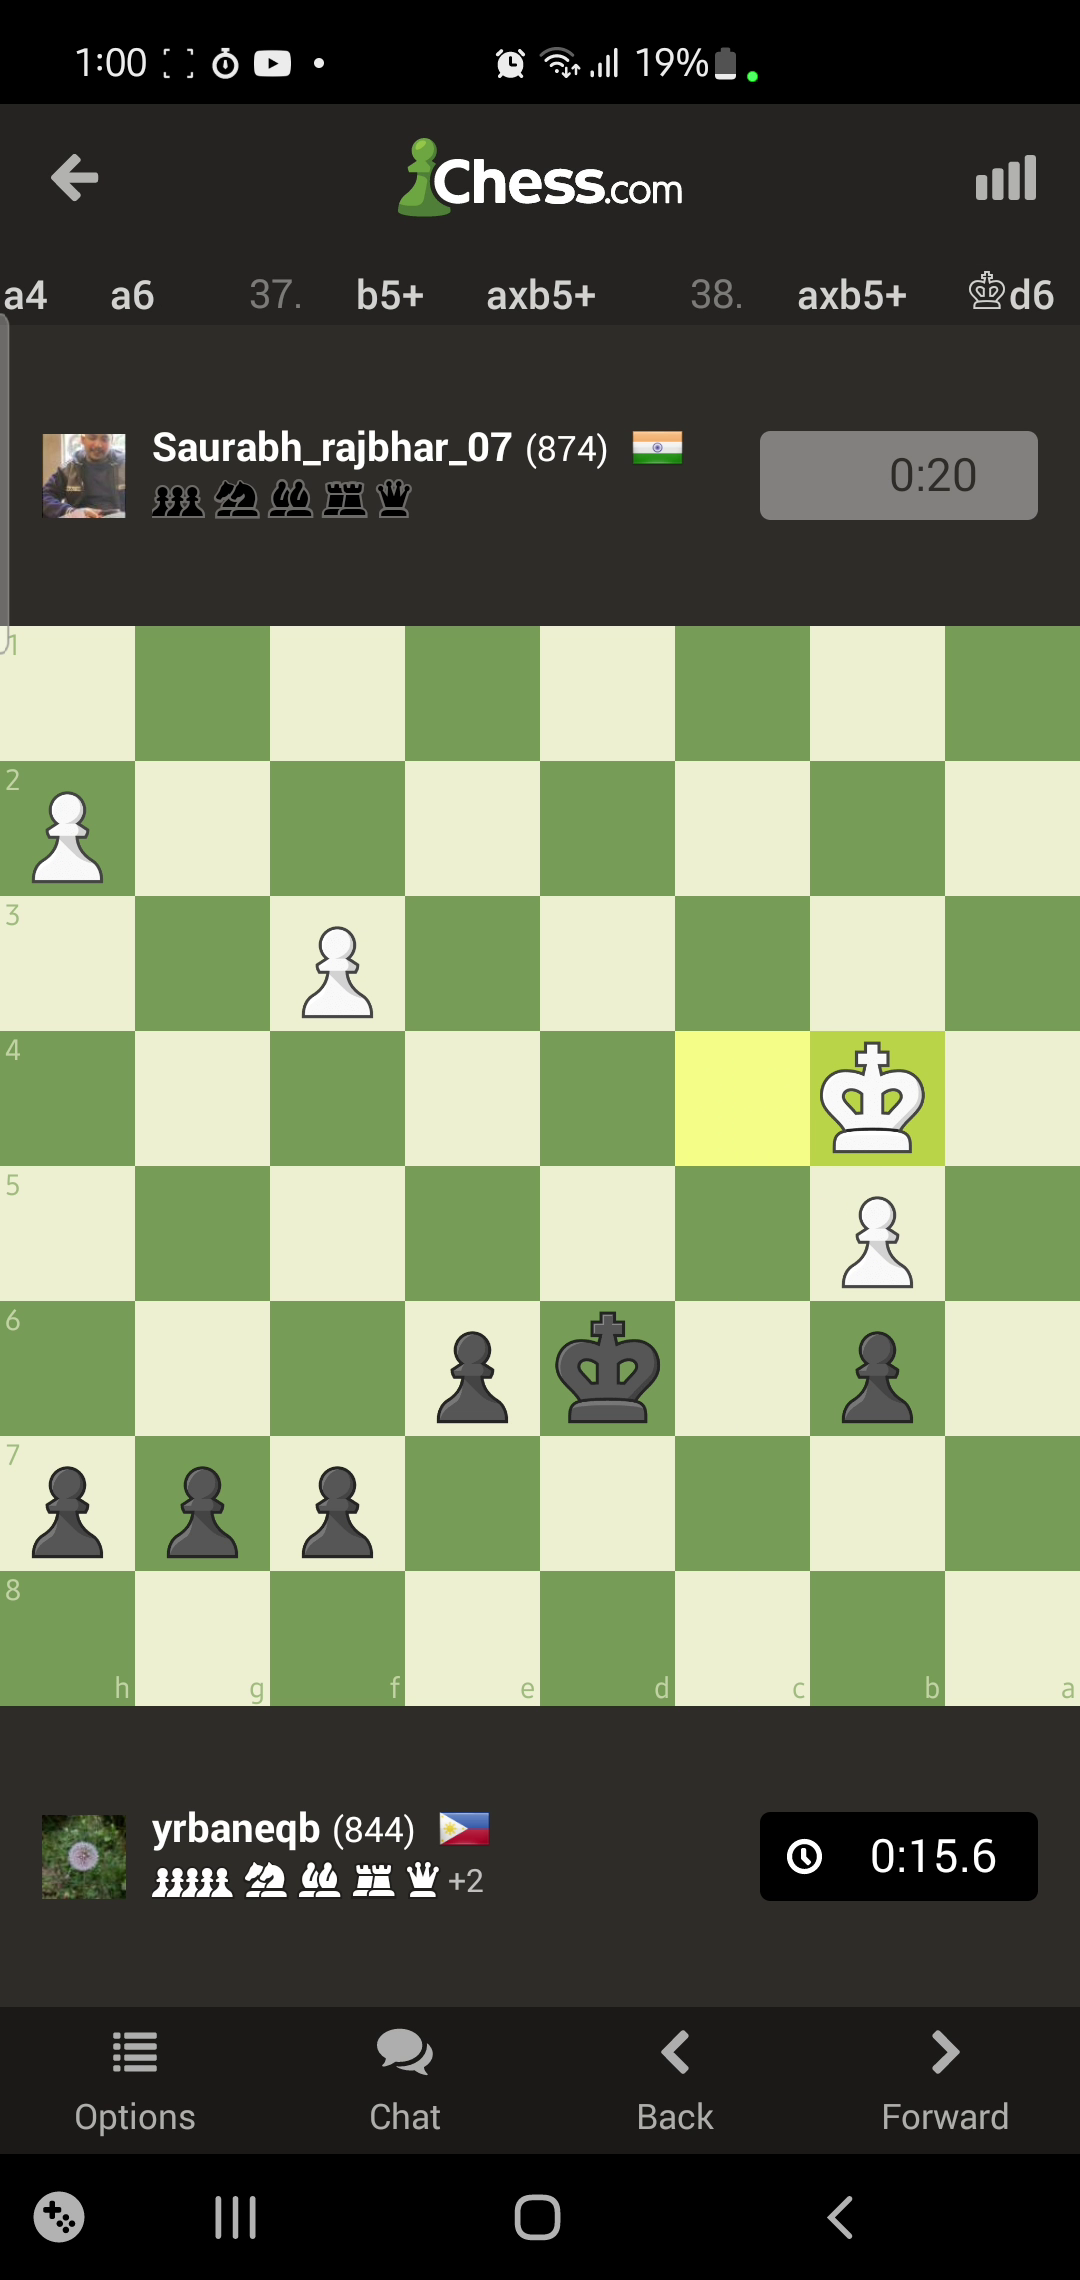king: (820, 1041, 924, 1155), (557, 1312, 657, 1422)
